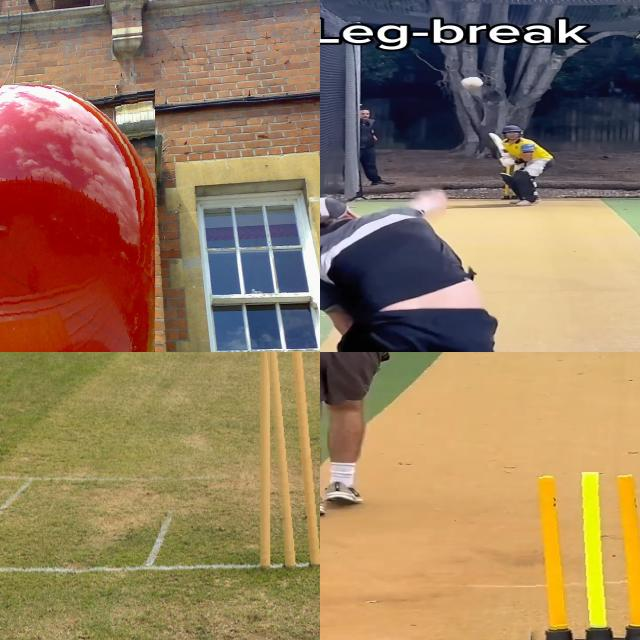Cricket ball: (0, 85, 155, 352), (460, 77, 484, 90)
Stumps: (517, 472, 640, 640), (259, 352, 320, 571)
